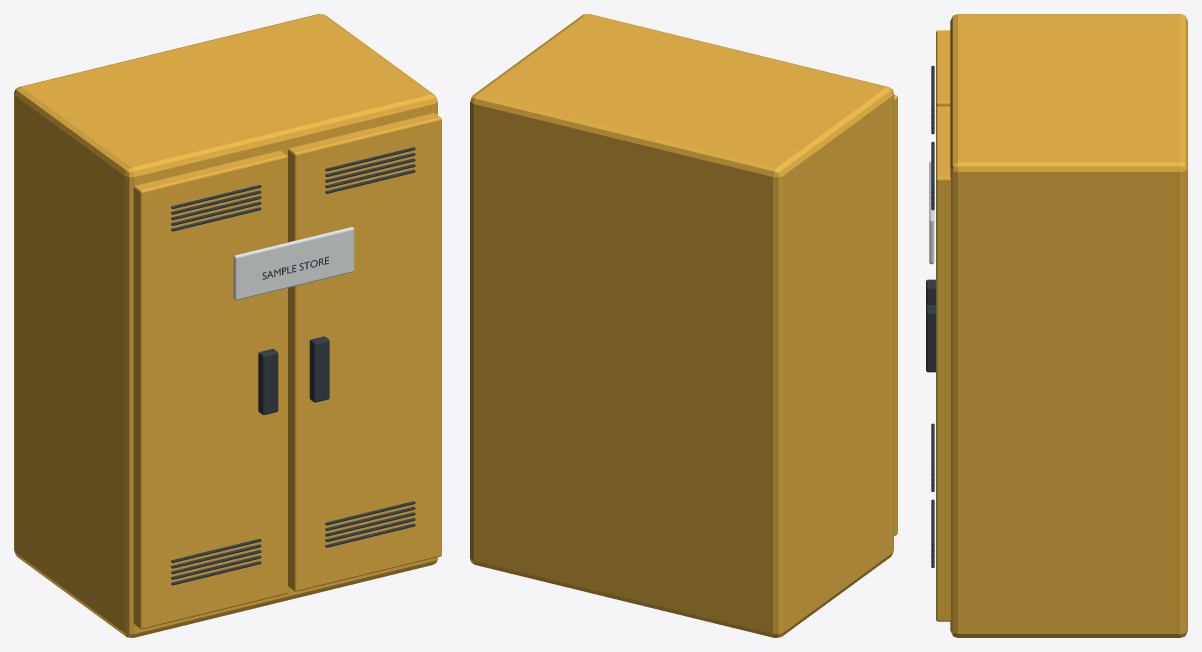
Rendered from reagent-cabinet.glb.
3 views of the same model, side by side, from view 1: azimuth 30°, elevation 25°; view 2: azimuth 150°, elevation 25°; view 3: azimuth 270°, elevation 25° (orthographic).
Parts seen in each view (by area): view 1: Cabinet, Door, Door.001, Sign, Handle.001, Handle; view 2: Cabinet, Door; view 3: Cabinet, Door.001, Door, Handle.001, Sign.
Boxes of the visible parts, x1,y1,x2,y2 form: Cabinet: (14,14,437,637); Door: (133,150,287,629); Door.001: (288,113,441,591); Sign: (233,227,354,300); Handle.001: (309,336,329,402); Handle: (258,349,278,414); Cabinet: (470,14,893,637); Door: (894,95,897,536); Cabinet: (950,14,1187,637); Door.001: (936,106,950,621); Door: (936,30,950,107); Handle.001: (926,305,935,372); Sign: (929,161,934,264).
Bounding box in the file's own units: 1.46 × 2.1 × 1.05.
